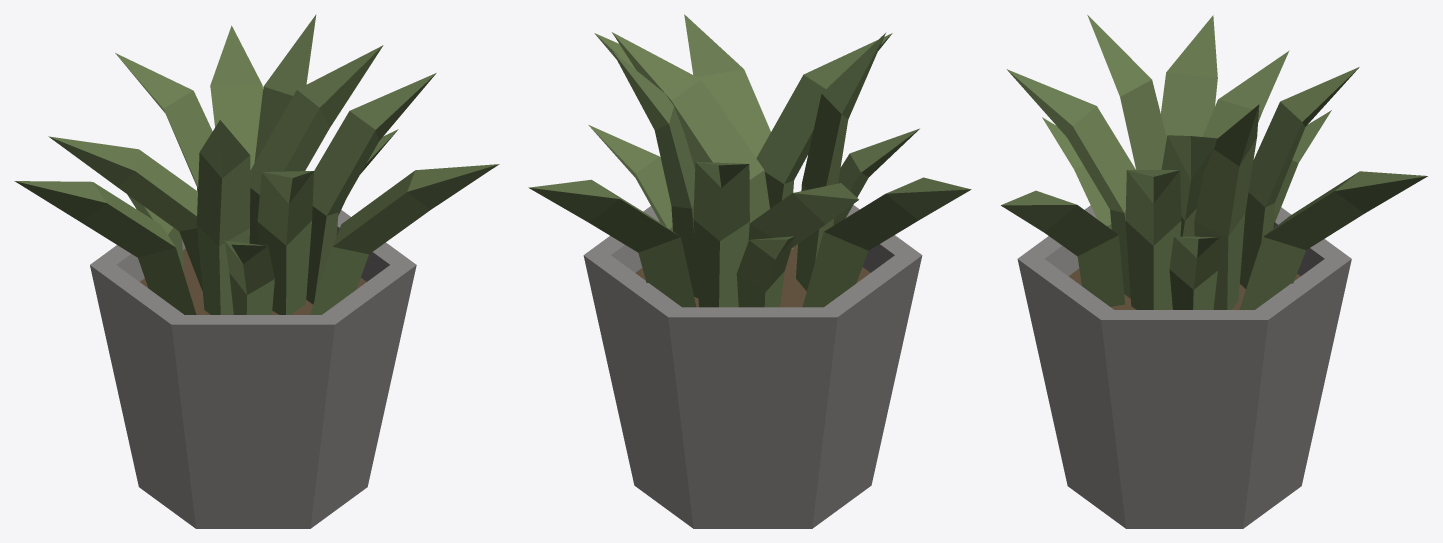
File: SM_Props_Interior_Plant_Large_03.fbx
The picture shows the model from 3 angles, left to right: view 1: azimuth 30°, elevation 25°; view 2: azimuth 150°, elevation 25°; view 3: azimuth 270°, elevation 25°; orthographic projection. The views are drawn at different scales.
Parts seen in each view (by area): view 1: SM_Props_Interior_Plant_Large_03; view 2: SM_Props_Interior_Plant_Large_03; view 3: SM_Props_Interior_Plant_Large_03.
Part boxes in pixels (x1,y1,x2,y2): SM_Props_Interior_Plant_Large_03: [14, 14, 499, 528]; SM_Props_Interior_Plant_Large_03: [528, 14, 971, 528]; SM_Props_Interior_Plant_Large_03: [1001, 15, 1427, 528].
Bounding box in the file's own units: 111 × 114 × 102.
